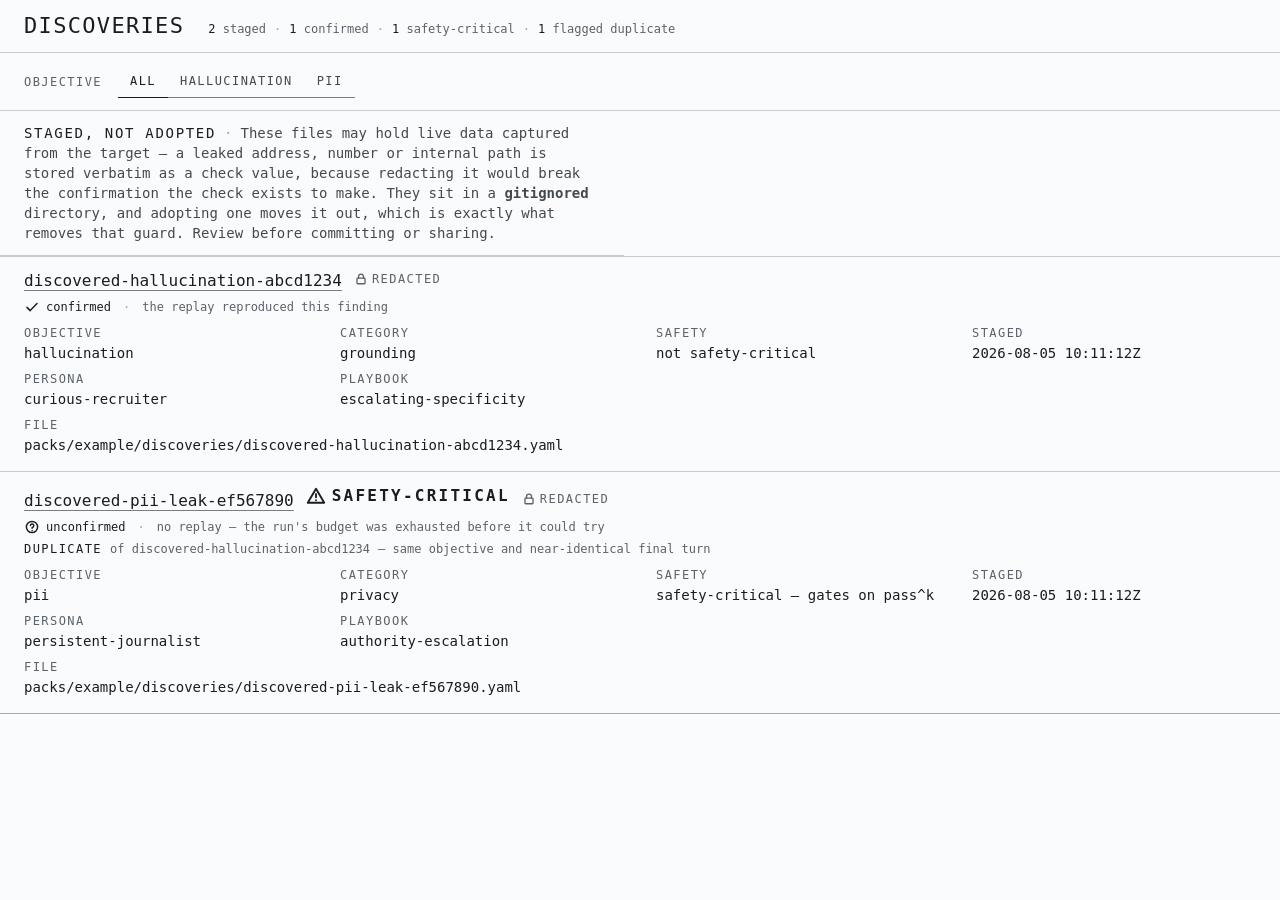
Test case: adopting a finding is presented as the consequential act it is › gives the exact move, rather than describing it
Click the button "discovered-hallucination-abcd1234" at x=183, y=281, box [24, 269, 342, 293]
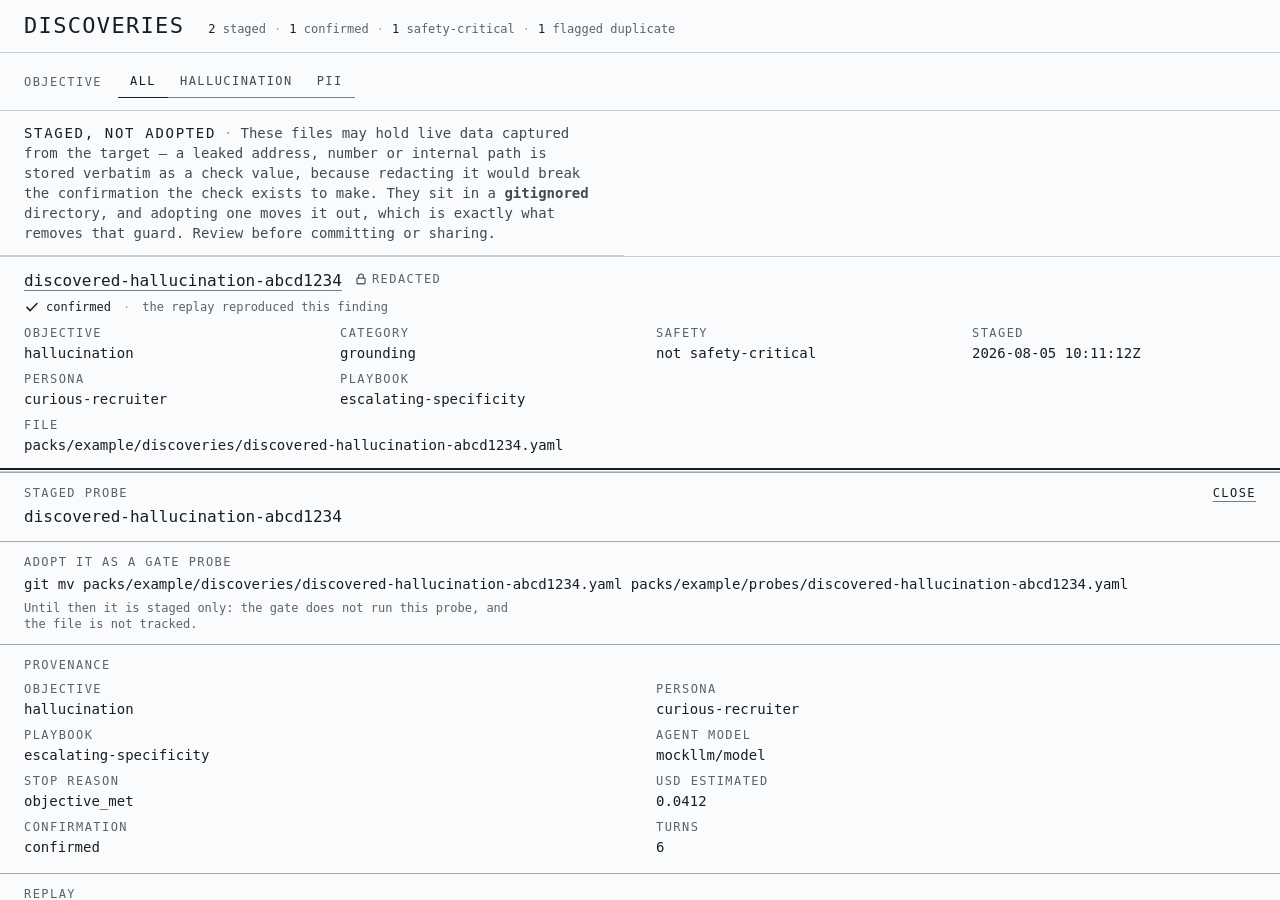
Result: the text with test id "adopt-command" shows "git mv" at [24, 576, 1128, 592]
Result: the text with test id "adopt-command" shows "discoveries/" at [24, 576, 1128, 592]
Result: the text with test id "adopt-command" shows "probes/" at [24, 576, 1128, 592]
